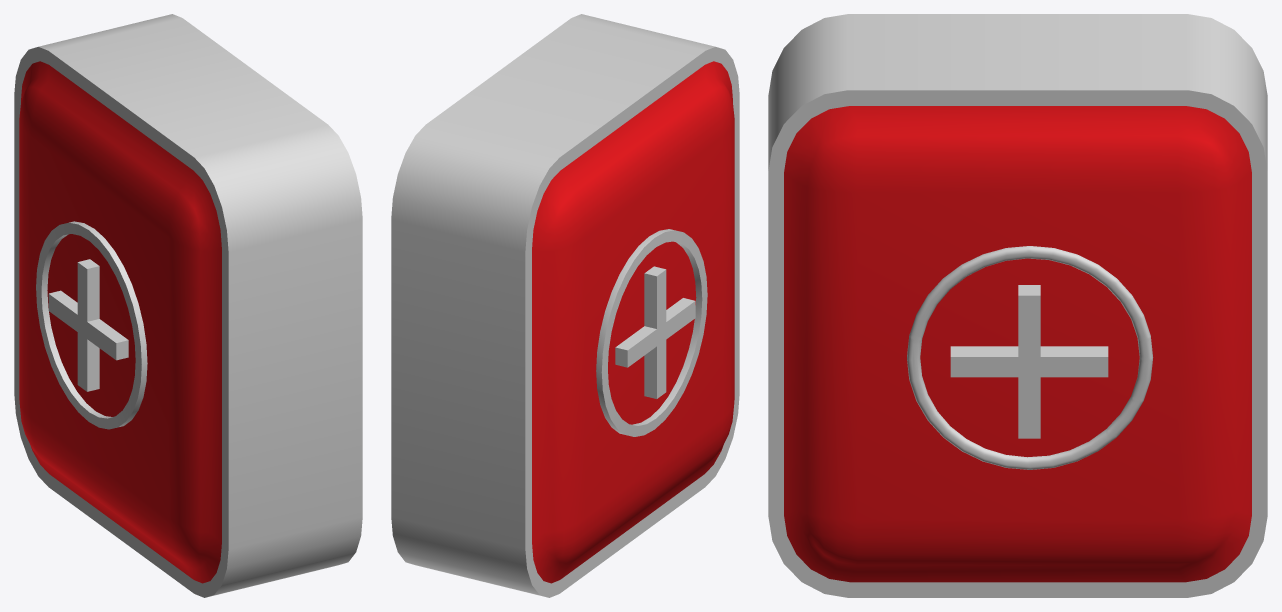
File: health.glb
The picture shows the model from 3 angles, left to right: view 1: azimuth 30°, elevation 25°; view 2: azimuth 150°, elevation 25°; view 3: azimuth 270°, elevation 25°; orthographic projection. The views are drawn at different scales.
Parts seen in each view (by area): view 1: Cube.002; view 2: Cube.002; view 3: Cube.002.
Part boxes in pixels (left/top/right/bottom): Cube.002: left=14, top=14, right=362, bottom=597; Cube.002: left=391, top=14, right=739, bottom=597; Cube.002: left=768, top=14, right=1267, bottom=597.
Bounding box in the file's own units: 0.3212 × 0.6411 × 0.5711.
